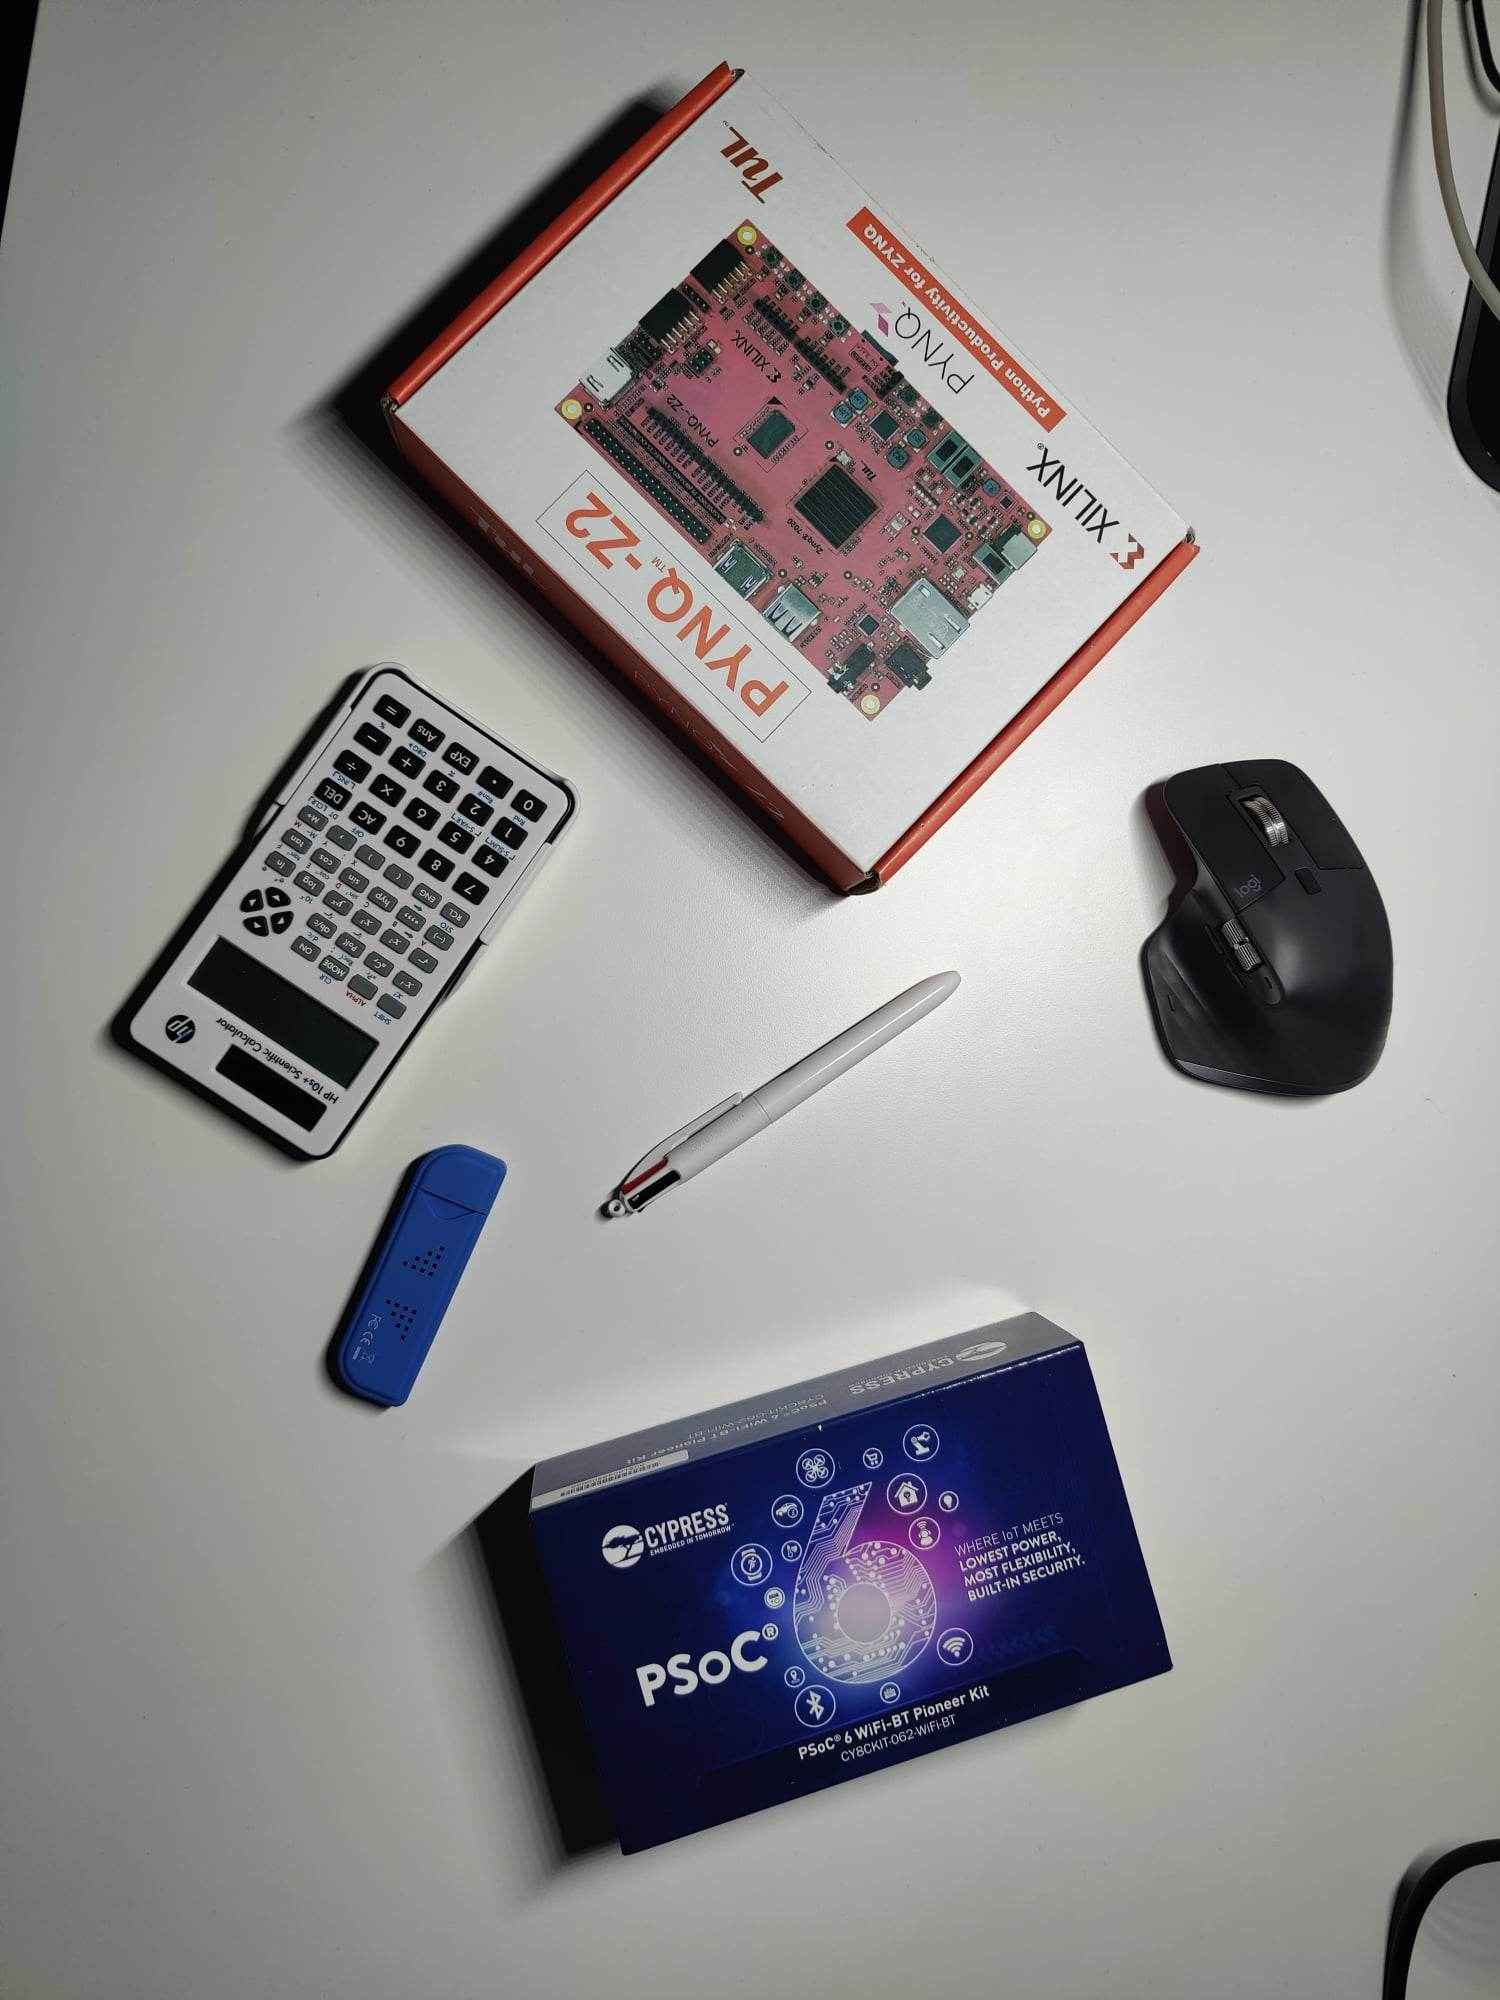DVB: (296, 1124, 534, 1425)
Muis: (1081, 734, 1424, 1143)
PSoC_6: (446, 1290, 1212, 1879)
PYNQ doos: (325, 36, 1287, 953)
Pen: (567, 950, 986, 1236)
Rekenmachine: (76, 646, 603, 1191)
